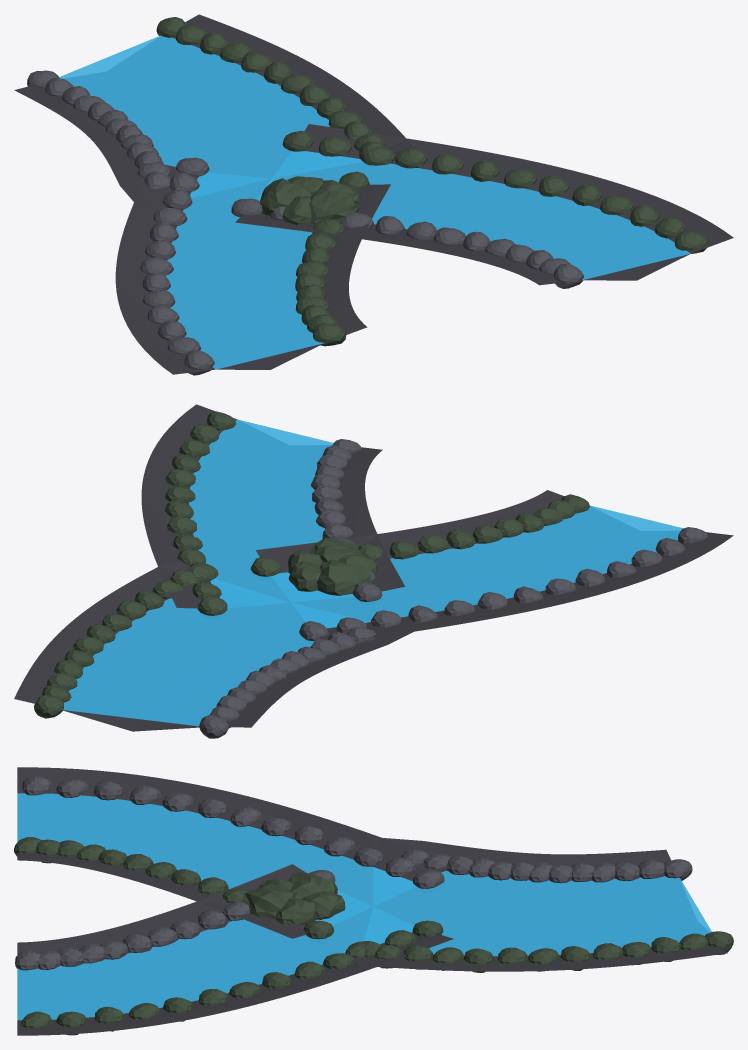
File: stream_fork_junction_01.glb
The picture shows the model from 3 angles, top to bottom: view 1: azimuth 30°, elevation 25°; view 2: azimuth 150°, elevation 25°; view 3: azimuth 270°, elevation 25°; orthographic projection. The views are drawn at different scales.
Visible parts, largest first — view 1: Stream_Fork_Junction_Y; view 2: Stream_Fork_Junction_Y; view 3: Stream_Fork_Junction_Y.
Boxes of the visible parts, x1,y1,x2,y2 form: Stream_Fork_Junction_Y: [14, 14, 733, 375]; Stream_Fork_Junction_Y: [14, 404, 733, 738]; Stream_Fork_Junction_Y: [14, 767, 733, 1035].
Size of the model in its own units: 9.8 by 0.6924 by 11.12.
